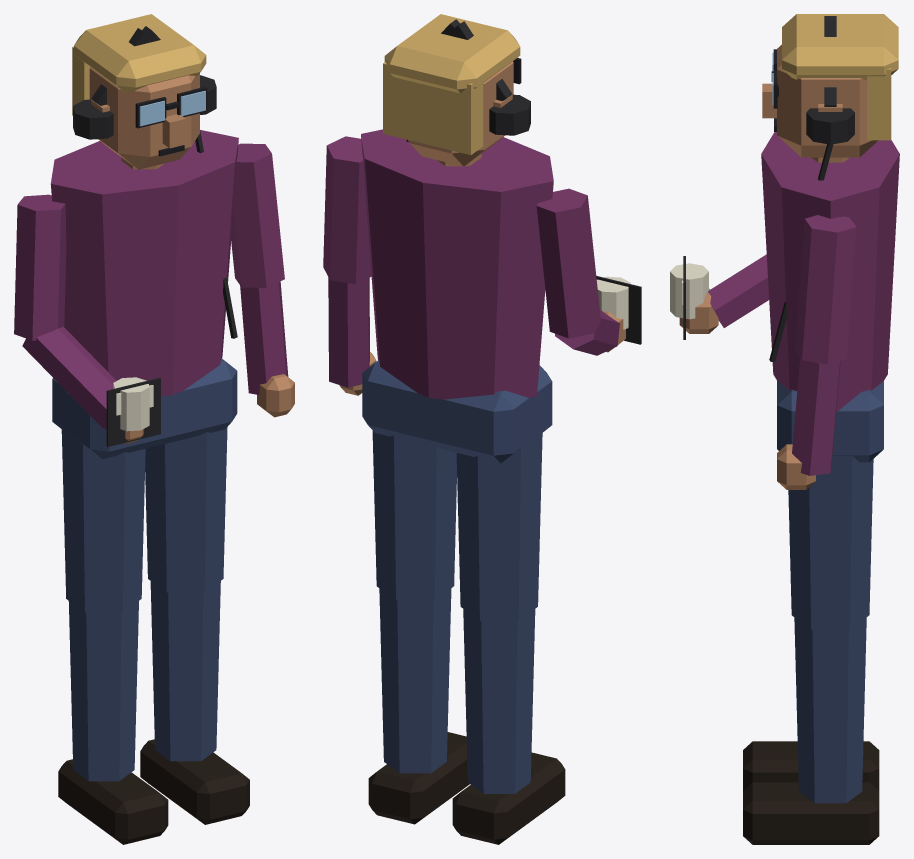
File: person.noc-b.glb
3 renders of one model, left to right at view 1: azimuth 30°, elevation 25°; view 2: azimuth 150°, elevation 25°; view 3: azimuth 270°, elevation 25°, orthographic. The views are drawn at different scales.
Parts seen in each view (by area): view 1: torso, thigh-1, thigh1, shin1, shin-1, hips, upper-1, hair, upper1, shoe-1, shoe1, head (+11 smaller); view 2: torso, thigh-1, thigh1, shin1, shin-1, hips, upper-1, hair, hair-back, upper1, shoe-1, shoe1 (+6 smaller); view 3: torso, thigh1, shin1, upper1, shoe1, hair, head, fore1, hips, shoe-1, fore-1, hair-back (+6 smaller).
Part boxes in pixels (left/top/right/bottom): torso: left=50, top=130, right=238, bottom=396; thigh-1: left=61, top=429, right=145, bottom=612; thigh1: left=145, top=427, right=227, bottom=592; shin1: left=150, top=581, right=220, bottom=761; shin-1: left=68, top=601, right=138, bottom=781; hips: left=52, top=358, right=237, bottom=459; upper-1: left=14, top=194, right=66, bottom=340; hair: left=74, top=14, right=206, bottom=92; upper1: left=231, top=143, right=284, bottom=287; shoe-1: left=58, top=759, right=168, bottom=844; shoe1: left=140, top=739, right=249, bottom=824; head: left=89, top=67, right=199, bottom=169; torso: left=361, top=129, right=553, bottom=399; thigh-1: left=456, top=432, right=542, bottom=620; thigh1: left=372, top=430, right=456, bottom=600; shin1: left=379, top=588, right=451, bottom=773; shin-1: left=463, top=609, right=535, bottom=793; hips: left=362, top=360, right=552, bottom=463; upper-1: left=536, top=188, right=600, bottom=338; hair: left=384, top=14, right=520, bottom=93; hair-back: left=383, top=62, right=483, bottom=154; upper1: left=323, top=136, right=371, bottom=284; shoe-1: left=452, top=752, right=565, bottom=844; shoe1: left=368, top=732, right=469, bottom=824; torso: left=761, top=132, right=899, bottom=411; thigh1: left=788, top=456, right=873, bottom=629; shin1: left=794, top=617, right=866, bottom=803; upper1: left=795, top=215, right=856, bottom=364; shoe1: left=743, top=782, right=879, bottom=844; hair: left=782, top=14, right=898, bottom=80; head: left=777, top=44, right=878, bottom=157; fore1: left=792, top=358, right=840, bottom=475; hips: left=777, top=381, right=883, bottom=462; shoe-1: left=743, top=741, right=879, bottom=790; fore-1: left=708, top=254, right=769, bottom=327; hair-back: left=867, top=68, right=891, bottom=140.
Size of the model in its own units: 0.6504 by 1.81 by 0.4726.
